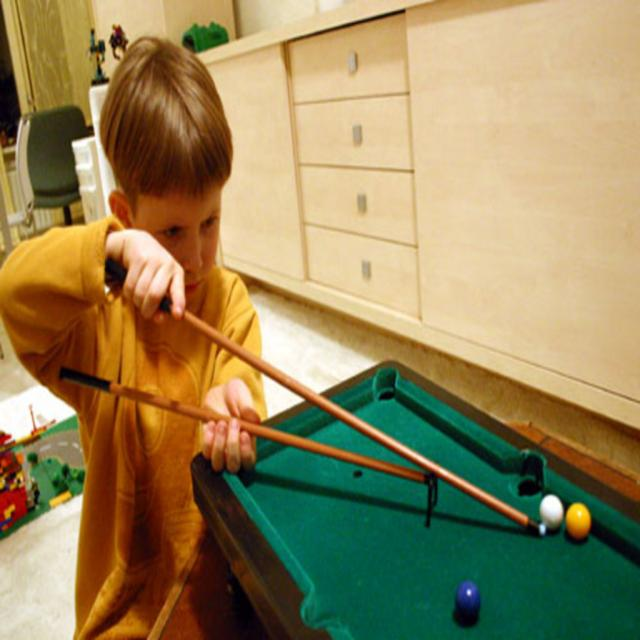Ball: (563, 501, 593, 542), (454, 582, 482, 623), (537, 496, 562, 528)
Billiard table: (189, 358, 639, 638)
